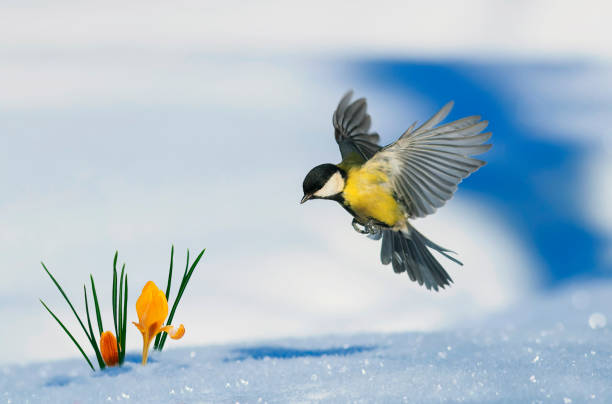Bird: (297, 86, 492, 293)
